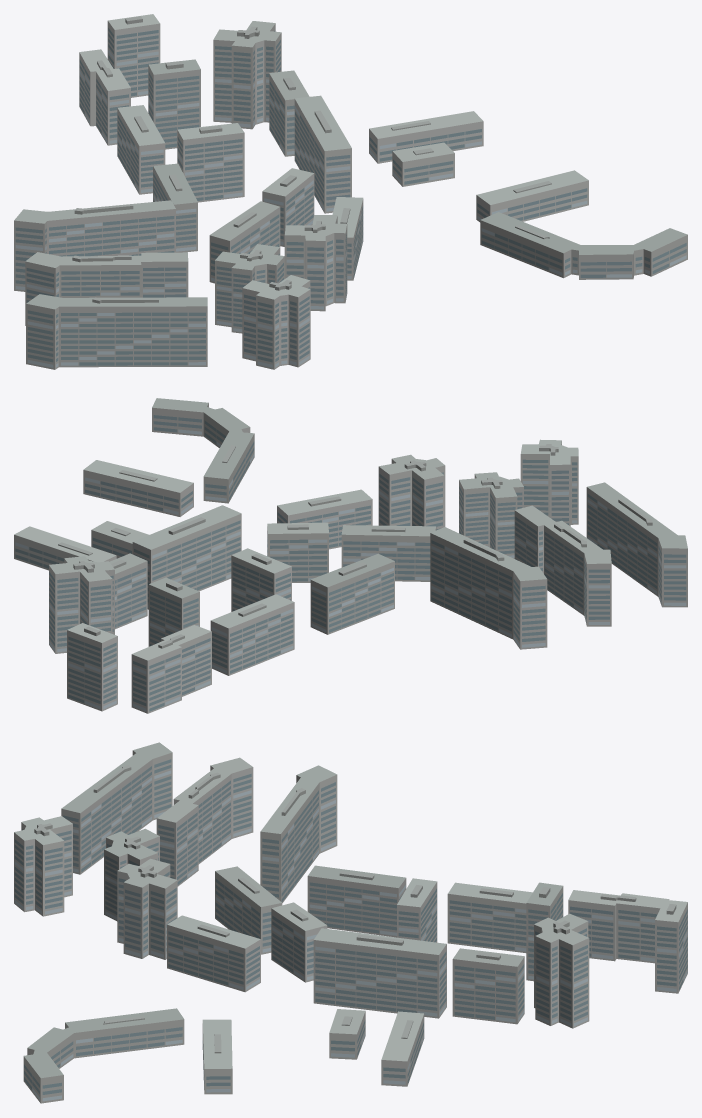
File: apt-a15728007.glb
3 views of the same model, one above another, from view 1: azimuth 30°, elevation 25°; view 2: azimuth 150°, elevation 25°; view 3: azimuth 270°, elevation 25° (orthographic). The views are drawn at different scales.
Visible parts, largest first — view 1: apt-a15728007; view 2: apt-a15728007; view 3: apt-a15728007.
Boxes of the visible parts, x1,y1,x2,y2 form: apt-a15728007: (14, 14, 687, 369); apt-a15728007: (14, 398, 687, 713); apt-a15728007: (14, 742, 687, 1103).
Bounding box in the file's own units: 309 × 42 × 294.
